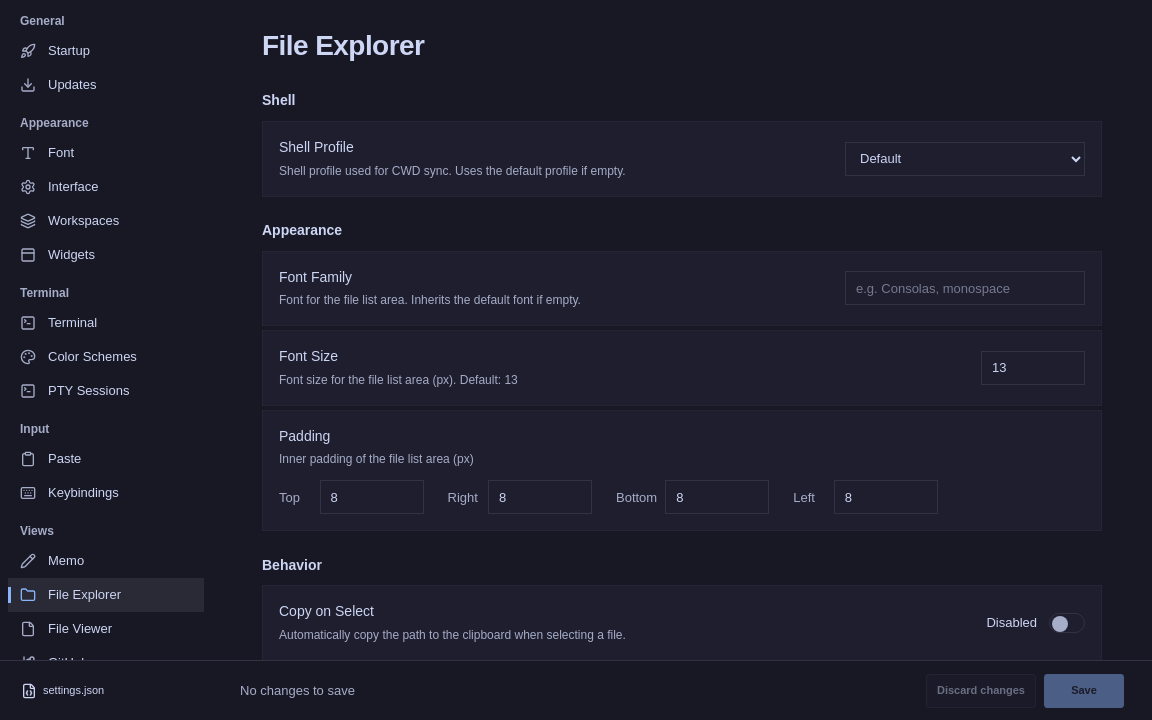
SettingsView › external navigation (ui.navigateSettings) › lets a user nav click take over and release the external target
expect the number field with test id "fe-padding-top" is shown: met, box [320,480,424,514]
What coordinates should you click on to do the following:
click the button with test id "nav-font"
I would click on:
 (106, 153)
Its box is [8,136,204,170].
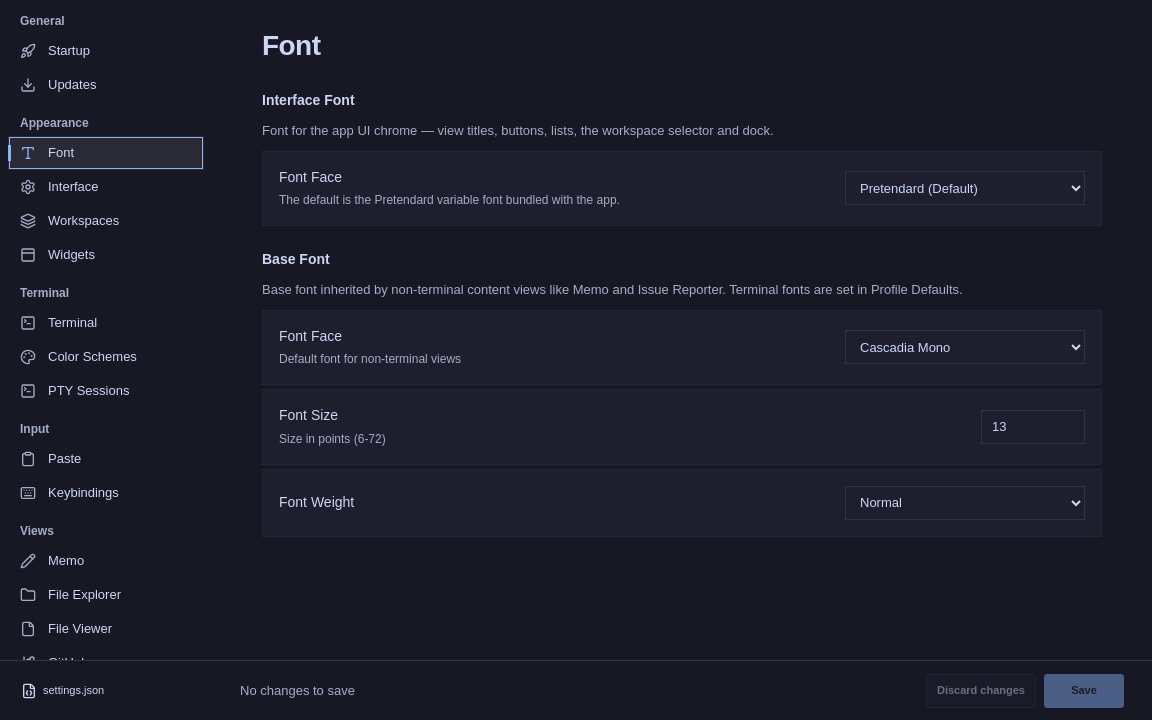
expect the number field with test id "fe-padding-top" is gone: met
